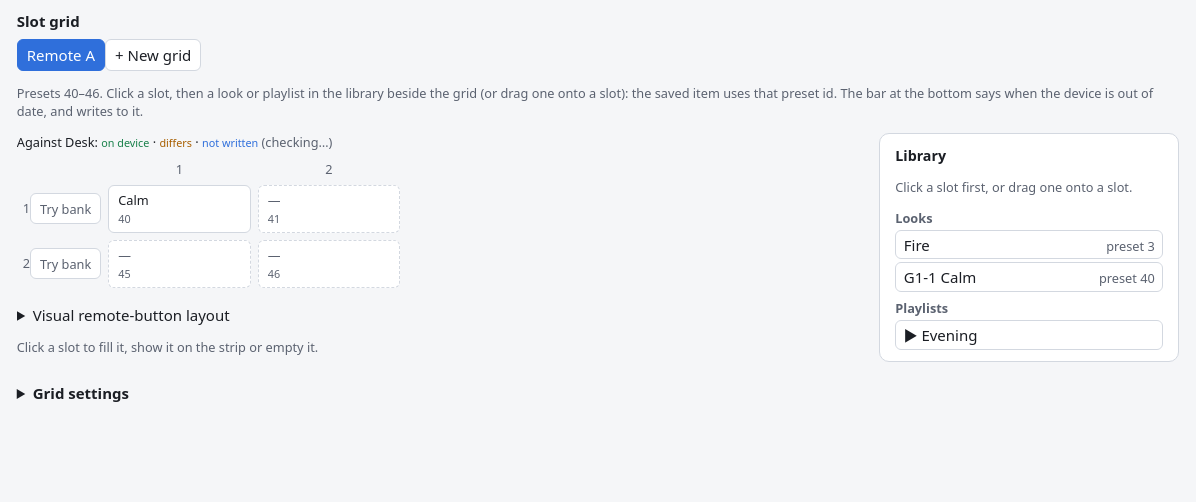
Test: a bank can be tried without writing presets
Click the 1st button "Try bank".
click(66, 209)  # box [30,193,101,224]
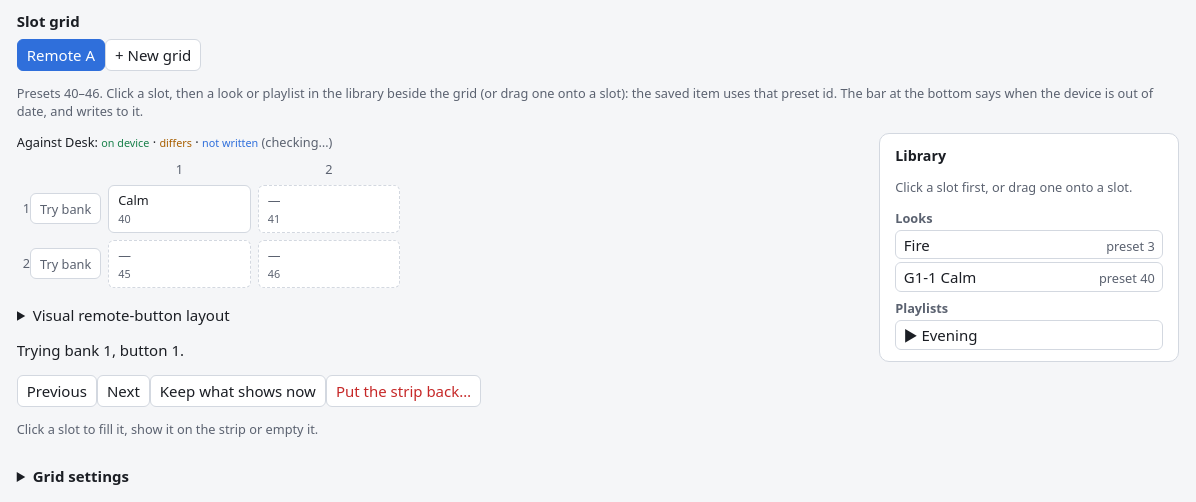
Check: the element named "Bank trial" shows "Trying bank 1, button 1", box [17,340,481,407]
